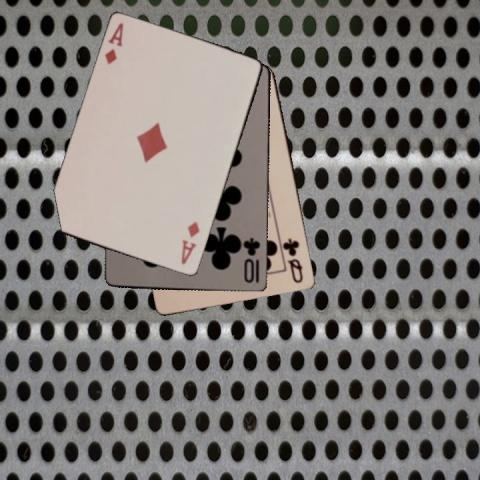10c: (241, 235, 262, 284)
Ad: (178, 219, 201, 267), (102, 20, 125, 66)
Qc: (281, 235, 305, 285)
